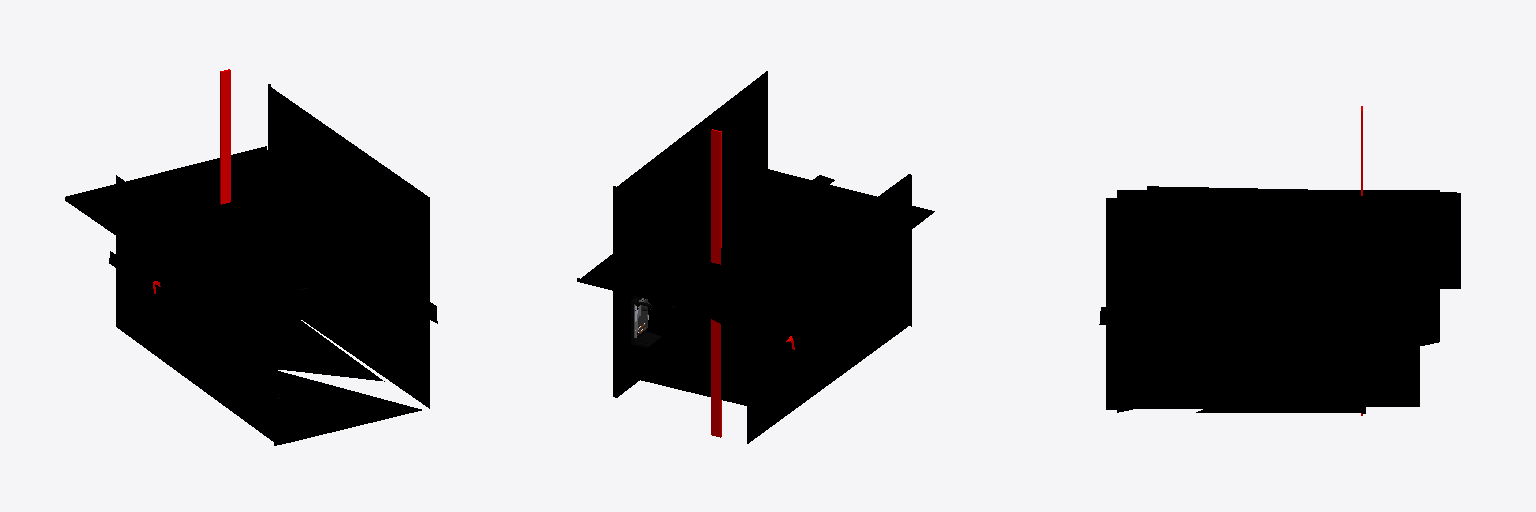
File: black_walls.obj
The picture shows the model from 3 angles: view 1: azimuth 30°, elevation 25°; view 2: azimuth 150°, elevation 25°; view 3: azimuth 270°, elevation 25°; orthographic projection.
Visible parts, largest first — view 1: ruang.003, ruang.001, ruang.002, ruang, Cube.001; view 2: ruang.002, ruang.003, ruang.001, ruang, Cube.001; view 3: ruang.001, ruang.002, ruang.003, ruang.
Boxes of the visible parts, box(x1,y1,x2,y2) form: ruang.003: box(109, 175, 421, 445); ruang.001: box(268, 84, 437, 408); ruang.002: box(65, 146, 408, 308); ruang: box(150, 169, 384, 381); Cube.001: box(220, 69, 230, 204); ruang.002: box(577, 164, 934, 331); ruang.003: box(747, 174, 911, 443); ruang.001: box(613, 71, 767, 397); ruang: box(641, 229, 791, 405); Cube.001: box(711, 129, 721, 437); ruang.001: box(1099, 195, 1419, 409); ruang.002: box(1147, 186, 1460, 288); ruang.003: box(1117, 190, 1439, 412); ruang: box(1196, 261, 1366, 413).
Size of the model in its own units: 52.91 by 76.42 by 81.87.